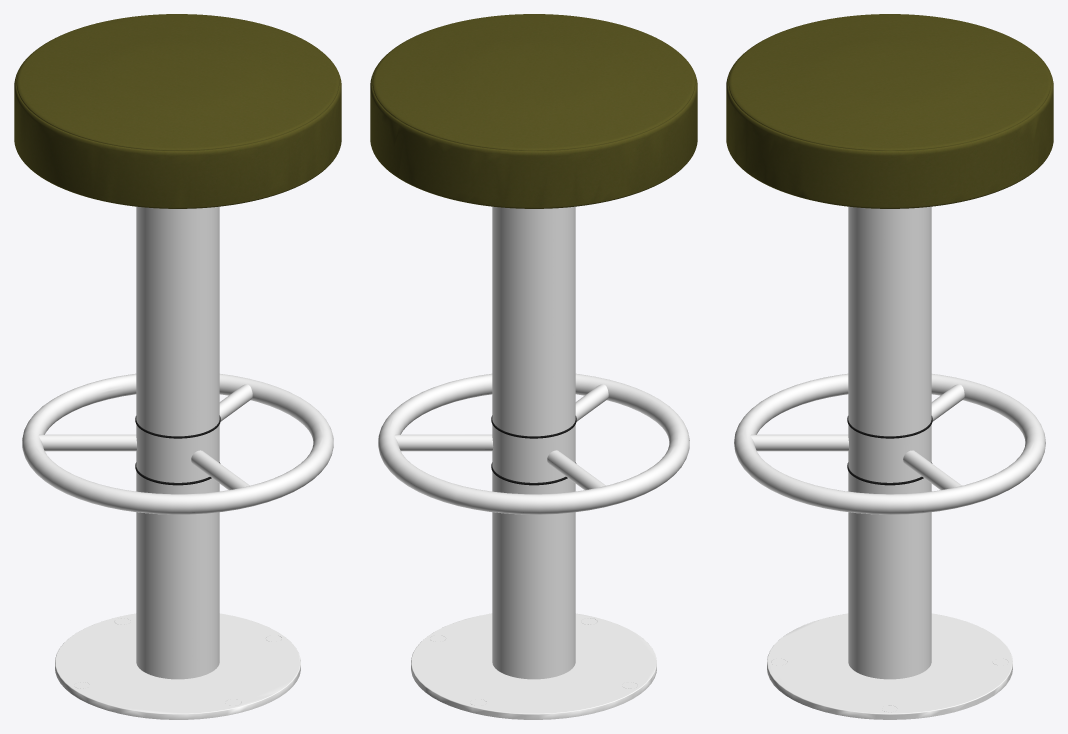
Rendered from c114-teknofibra-25.glb.
The picture shows the model from 3 angles, left to right: view 1: azimuth 30°, elevation 25°; view 2: azimuth 150°, elevation 25°; view 3: azimuth 270°, elevation 25°; orthographic projection.
Parts seen in each view (by area): view 1: c114-base-piastra, c114-seduta-acciaio, c114-tubo-boccola-alta; view 2: c114-base-piastra, c114-seduta-acciaio, c114-tubo-boccola-alta; view 3: c114-base-piastra, c114-seduta-acciaio, c114-tubo-boccola-alta.
Part boxes in pixels (x1,y1,x2,y2): c114-base-piastra: (22, 206, 333, 719); c114-seduta-acciaio: (14, 14, 341, 208); c114-tubo-boccola-alta: (135, 415, 220, 485); c114-base-piastra: (378, 206, 689, 719); c114-seduta-acciaio: (370, 14, 697, 208); c114-tubo-boccola-alta: (491, 415, 576, 485); c114-base-piastra: (734, 206, 1045, 719); c114-seduta-acciaio: (726, 14, 1053, 208); c114-tubo-boccola-alta: (847, 416, 932, 485).
Bounding box in the file's own units: 0.3991 × 0.8009 × 0.3991.
4 materials, 1 textured.
